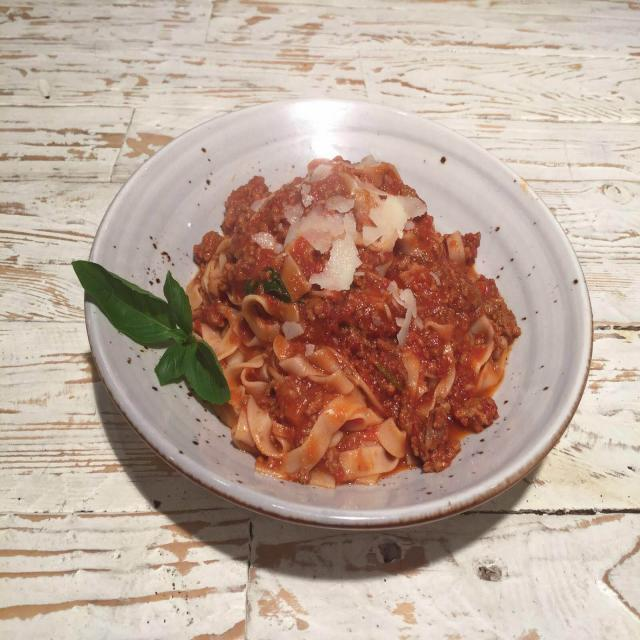Pasta al ragu: (107, 120, 558, 490)
